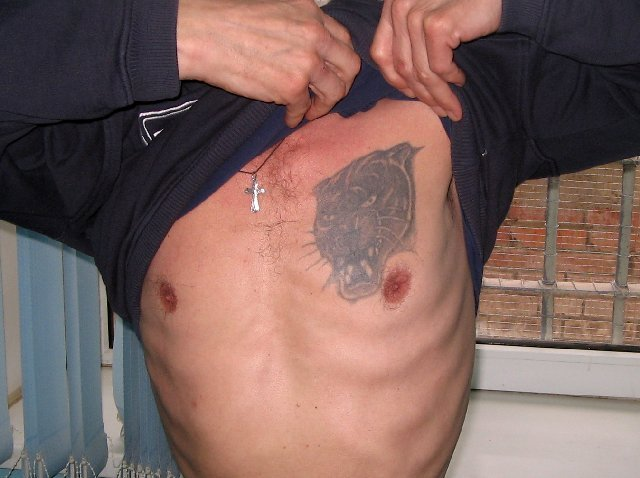tatu5_tigr: (303, 141, 426, 306)
